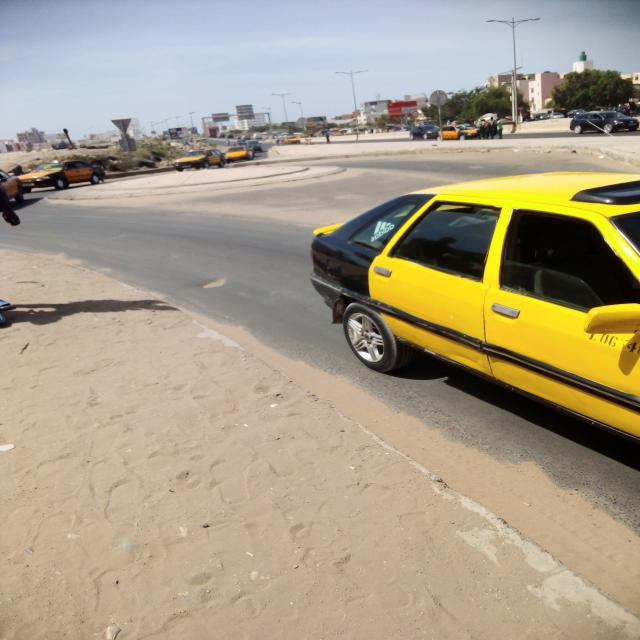particulier: (571, 112, 640, 135), (411, 124, 441, 141), (239, 141, 264, 154)
taxi: (311, 174, 640, 441), (19, 162, 106, 194), (174, 150, 228, 172), (443, 125, 478, 141), (226, 146, 254, 164)
